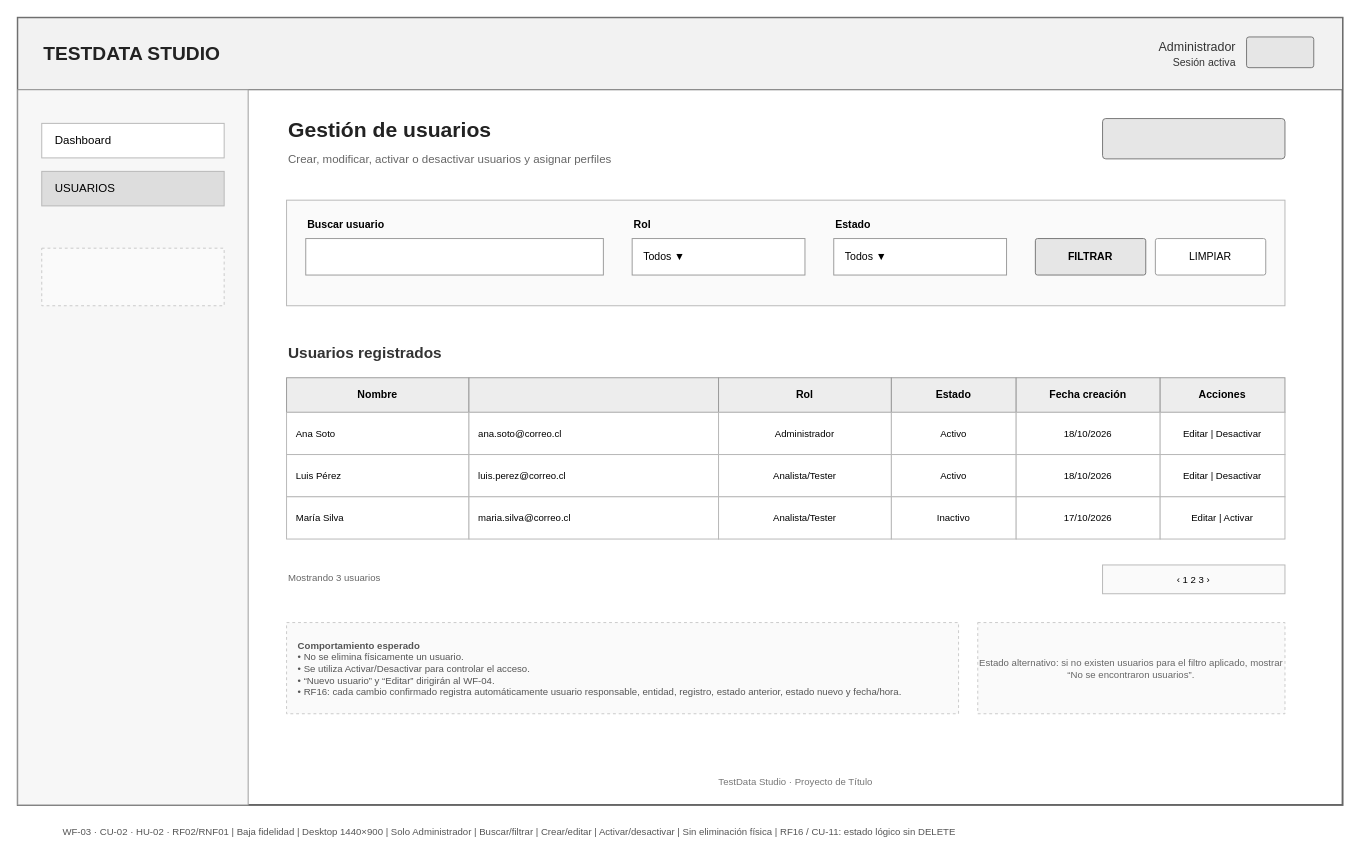
Image size: 1359x859. Some labels were removed from this diagram. The centre of each missing label's shape, as x and y in pixels:
"+ NUEVO USUARIO" belongs at pixel 1193 138.
"Correo" belongs at pixel 593 394.
"Nombre o correo electrónico" belongs at pixel 454 256.
"Pantalla disponible solo para perfil Administrador" belongs at pixel 132 276.
"SALIR" belongs at pixel 1280 52.
